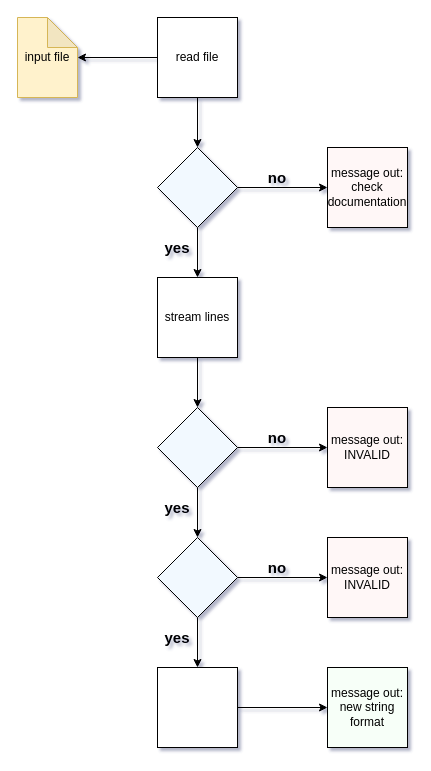
Some shapes in this 431 by 771 pixel diagram are drawn without their labels. The shapes that lost their labels are listed below. From the top down, each one's centre as x and y in pixels, then its label:
At point (197, 187): "file exists".
At point (197, 447): "valid match period".
At point (197, 577): "valid match time".
At point (197, 707): "convert string".
